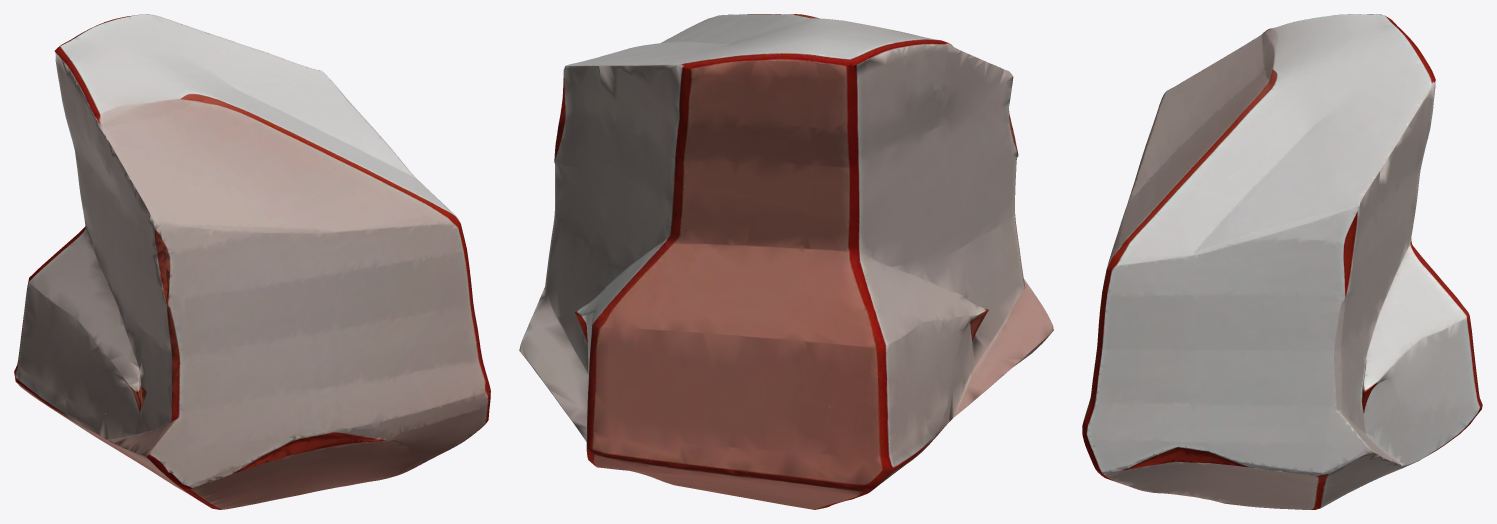
The model's file is thingx-stone.glb.
The picture shows the model from 3 angles, left to right: view 1: azimuth 30°, elevation 25°; view 2: azimuth 150°, elevation 25°; view 3: azimuth 270°, elevation 25°; orthographic projection. The views are drawn at different scales.
Parts seen in each view (by area): view 1: tripo_node_17e95a63-353d-43c5-90bd-b4e8f1024e16; view 2: tripo_node_17e95a63-353d-43c5-90bd-b4e8f1024e16; view 3: tripo_node_17e95a63-353d-43c5-90bd-b4e8f1024e16.
Boxes of the visible parts, x1,y1,x2,y2 form: tripo_node_17e95a63-353d-43c5-90bd-b4e8f1024e16: (14, 14, 490, 509); tripo_node_17e95a63-353d-43c5-90bd-b4e8f1024e16: (519, 14, 1053, 509); tripo_node_17e95a63-353d-43c5-90bd-b4e8f1024e16: (1082, 14, 1482, 509).
Size of the model in its own units: 0.7845 by 0.9805 by 0.8626.
1 material, 1 textured.
